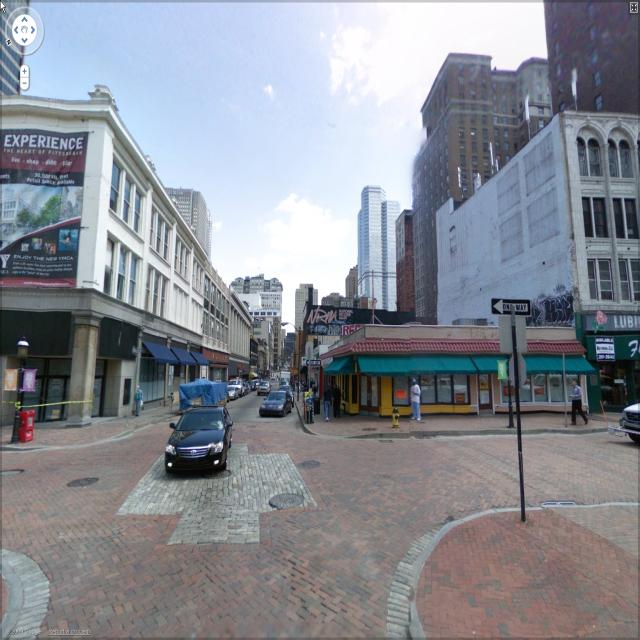b_1: (3, 100, 149, 398), (444, 117, 640, 324), (321, 339, 603, 414), (144, 190, 187, 384), (420, 112, 454, 316), (352, 188, 406, 304), (190, 252, 230, 382), (173, 175, 213, 252), (229, 293, 261, 388), (232, 270, 282, 311), (395, 215, 417, 307)
